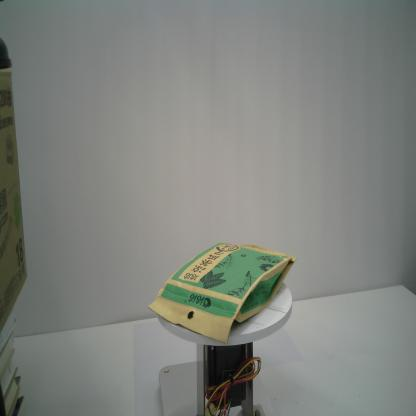Dried Food: (147, 240, 298, 344)
